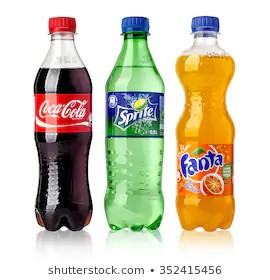coke-bottle-700ml: (29, 13, 97, 235)
